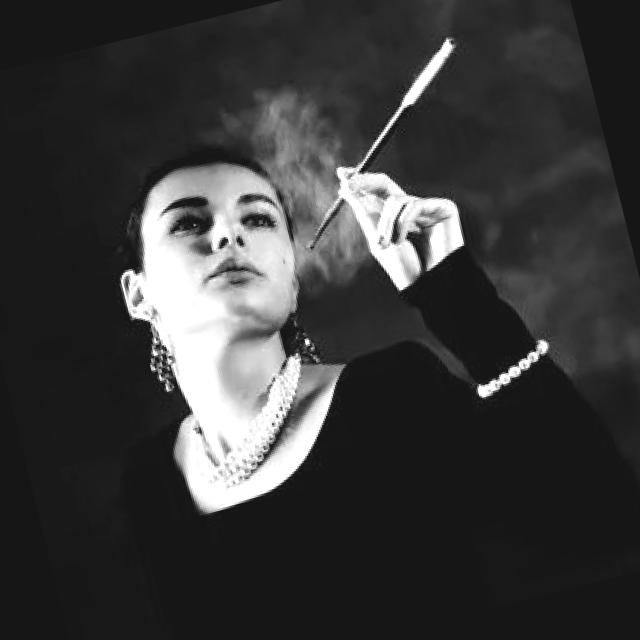cigarette: (384, 28, 474, 112)
